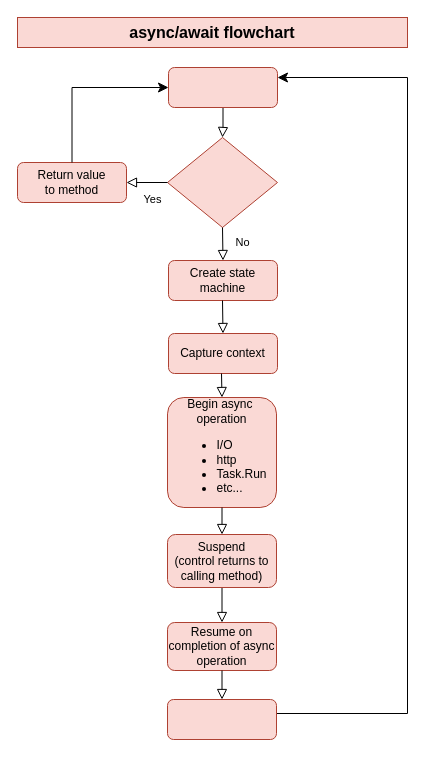
Image size: 435x757. Some labels were removed from this diagram. The shapes that lost their labels are listed below. From the top down, each one's centre as x and y in pixels, then its label:
[223,87]: async method
[222,182]: Is result immediately available?
[221,719]: Return value to calling method
